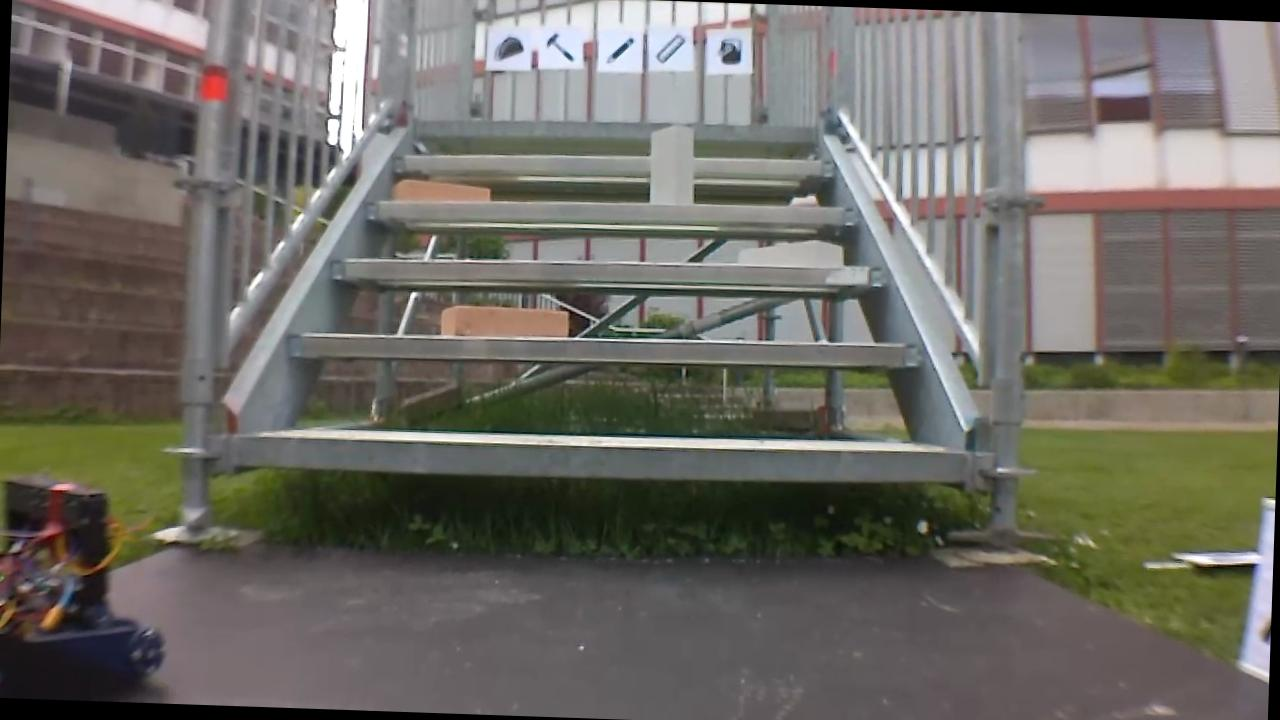brick: (441, 305, 566, 336), (648, 123, 696, 202), (393, 179, 487, 203)
bucket: (713, 33, 746, 68)
edge: (230, 427, 968, 489), (285, 322, 924, 374), (330, 248, 885, 294), (365, 191, 858, 232), (394, 145, 837, 182), (411, 113, 820, 146)
hammer: (542, 27, 576, 65)
pencil: (601, 31, 637, 65)
ruler: (652, 31, 689, 65)
steps: (220, 102, 993, 494)
taco: (488, 31, 527, 66)
